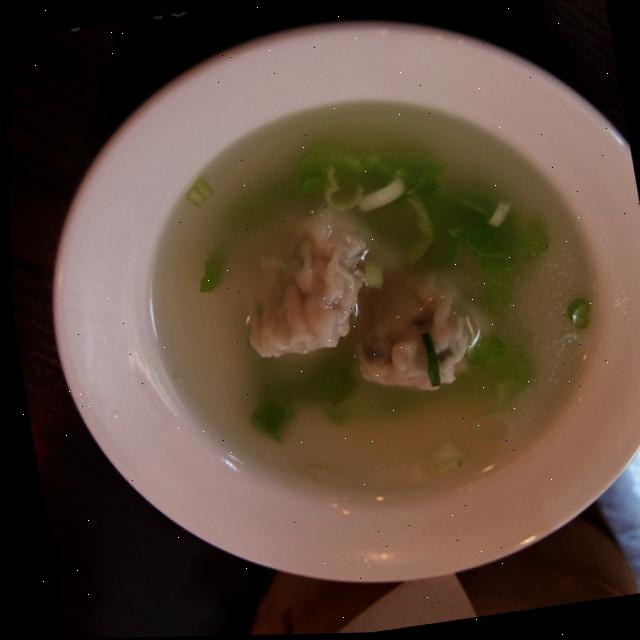汤锅炖物: (23, 0, 640, 626)
